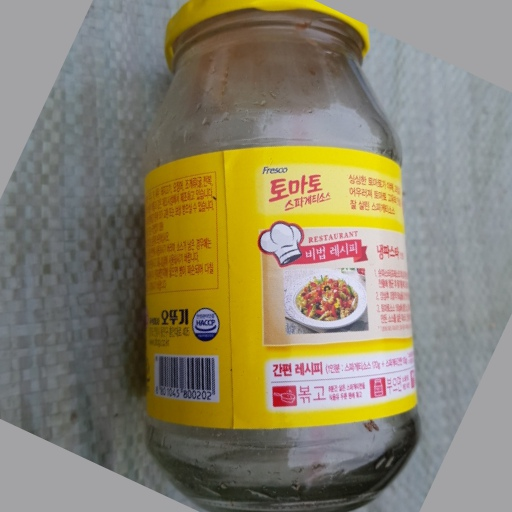Glass_5: (143, 1, 424, 509)
